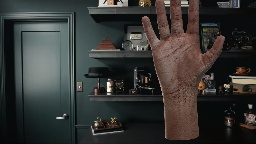Mano_aperta: (139, 0, 226, 97)
